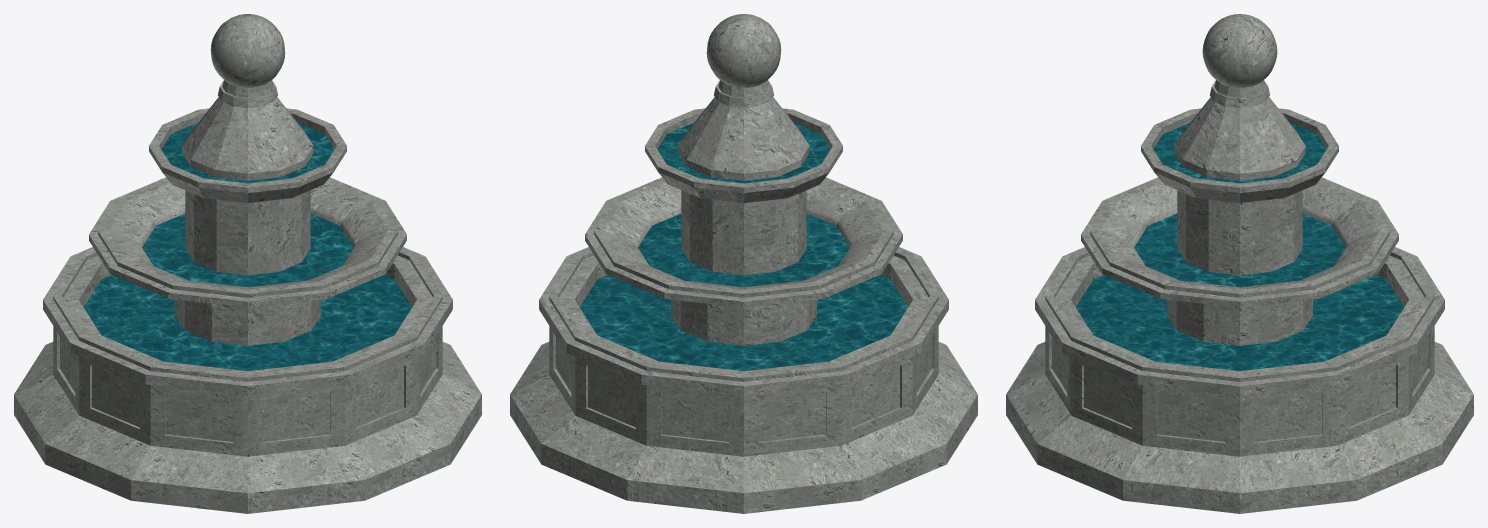
File: fountain.glb
3 renders of one model, left to right at view 1: azimuth 30°, elevation 25°; view 2: azimuth 150°, elevation 25°; view 3: azimuth 270°, elevation 25°, orthographic.
Parts seen in each view (by area): view 1: Fountain; view 2: Fountain; view 3: Fountain.
Part boxes in pixels (bbox=[...]): Fountain: bbox=[14, 14, 481, 513]; Fountain: bbox=[510, 14, 977, 513]; Fountain: bbox=[1006, 14, 1473, 513].
Size of the model in its own units: 0.0296 by 0.0277 by 0.0296.
2 materials, 2 textured.
